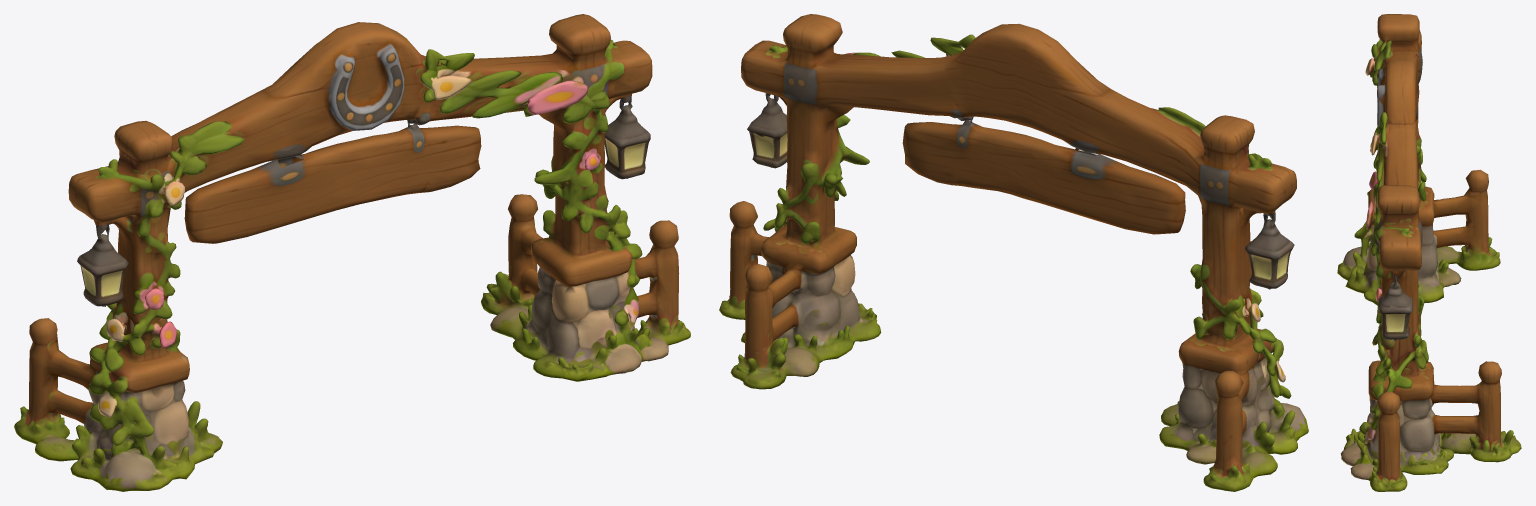
3 renders of one model, left to right at view 1: azimuth 30°, elevation 25°; view 2: azimuth 150°, elevation 25°; view 3: azimuth 270°, elevation 25°, orthographic. The views are drawn at different scales.
Visible parts, largest first — view 1: tripo_node_4e6409ff-ac25-42b8-9f06-a29231c8e3a8; view 2: tripo_node_4e6409ff-ac25-42b8-9f06-a29231c8e3a8; view 3: tripo_node_4e6409ff-ac25-42b8-9f06-a29231c8e3a8.
Boxes of the visible parts, <box> form: tripo_node_4e6409ff-ac25-42b8-9f06-a29231c8e3a8: <box>14,14,690,491</box>; tripo_node_4e6409ff-ac25-42b8-9f06-a29231c8e3a8: <box>719,14,1308,491</box>; tripo_node_4e6409ff-ac25-42b8-9f06-a29231c8e3a8: <box>1337,14,1521,491</box>.
Bounding box in the file's own units: 6.82 × 4 × 2.2.
1 material, 1 textured.
